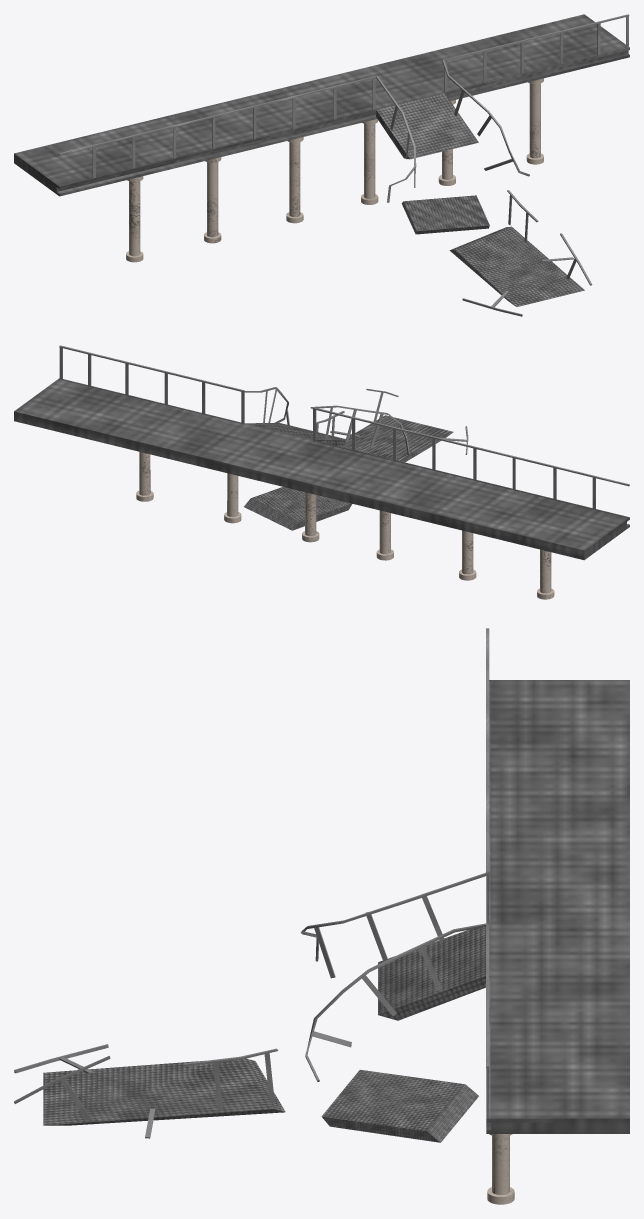
Rendered from testBalcony.fbx.
3 views of the same model, one above another, from view 1: azimuth 30°, elevation 25°; view 2: azimuth 150°, elevation 25°; view 3: azimuth 270°, elevation 25° (orthographic). The views are drawn at different scales.
Visible parts, largest first — view 1: pCube2, balconyWalkUp:pCube3, balconyWalkUp:pCube126, pCube143, pCylinder4, pCylinder15, pCylinder16, pCylinder19, pCylinder17, railing:pCube53, railing2:pCube127, pCylinder18; view 2: pCube2, balconyWalkUp:pCube3, pCube143, railing:pCube53, balconyWalkUp:pCube126, pCylinder17, pCylinder15, pCylinder16, pCylinder18, pCylinder19, pCylinder4, railing2:pCube127; view 3: pCube2, balconyWalkUp:pCube3, pCube143, balconyWalkUp:pCube126, pCube127 (×2), pCylinder19, railing:pCube53.
Part boxes in pixels (x1=…): pCube2: x1=14, y1=14, x2=629, y2=196; balconyWalkUp:pCube3: x1=449, y1=226, x2=584, y2=306; balconyWalkUp:pCube126: x1=376, y1=93, x2=478, y2=159; pCube143: x1=401, y1=195, x2=489, y2=234; pCylinder4: x1=126, y1=176, x2=143, y2=262; pCylinder15: x1=204, y1=157, x2=221, y2=243; pCylinder16: x1=286, y1=137, x2=303, y2=223; pCylinder19: x1=526, y1=78, x2=543, y2=164; pCylinder17: x1=361, y1=119, x2=378, y2=204; railing:pCube53: x1=58, y1=76, x2=375, y2=155; railing2:pCube127: x1=444, y1=14, x2=629, y2=60; pCylinder18: x1=438, y1=100, x2=455, y2=185; pCube2: x1=14, y1=378, x2=629, y2=560; balconyWalkUp:pCube3: x1=342, y1=415, x2=453, y2=462; pCube143: x1=244, y1=487, x2=352, y2=530; railing:pCube53: x1=312, y1=407, x2=629, y2=486; balconyWalkUp:pCube126: x1=246, y1=423, x2=345, y2=446; pCylinder17: x1=302, y1=492, x2=319, y2=542; pCylinder15: x1=459, y1=530, x2=476, y2=580; pCylinder16: x1=376, y1=510, x2=393, y2=560; pCylinder18: x1=224, y1=473, x2=241, y2=523; pCylinder19: x1=136, y1=452, x2=153, y2=501; pCylinder4: x1=537, y1=549, x2=554, y2=599; railing2:pCube127: x1=59, y1=345, x2=244, y2=392; pCube2: x1=486, y1=680, x2=629, y2=1133; balconyWalkUp:pCube3: x1=43, y1=1058, x2=285, y2=1125; pCube143: x1=321, y1=1069, x2=478, y2=1142; balconyWalkUp:pCube126: x1=378, y1=927, x2=485, y2=1020; pCube127 (×2): x1=300, y1=872, x2=488, y2=1081; pCylinder19: x1=487, y1=1134, x2=514, y2=1204; railing:pCube53: x1=486, y1=628, x2=489, y2=873.
Size of the model in its own units: 8.84 by 1.94 by 5.25.
